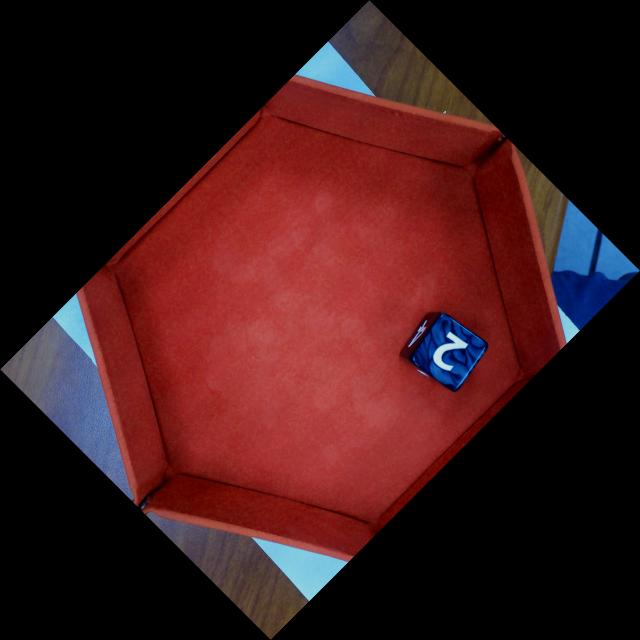dice: (409, 311, 489, 393)
